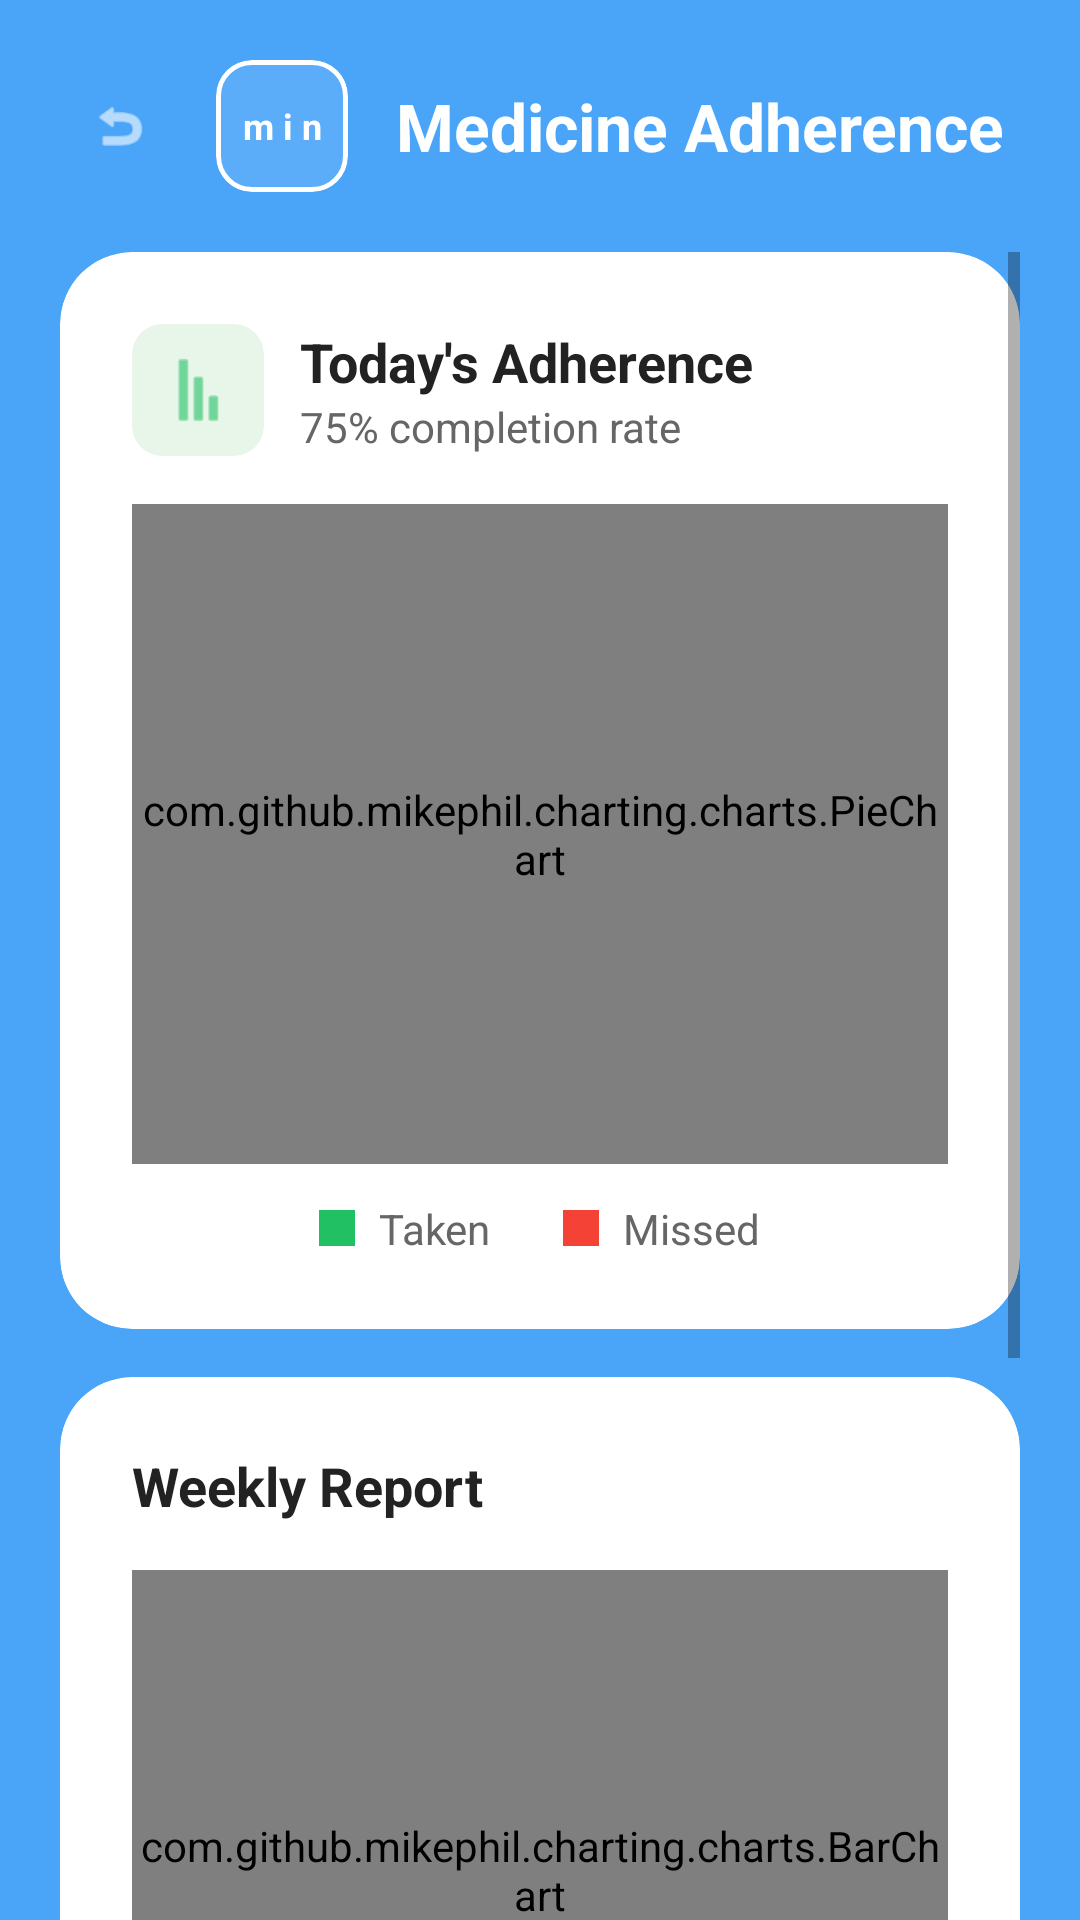

Screen size 1080px x 1920px. Icon name, then its center in pixels as [x,y]:
revert: [120,126]
